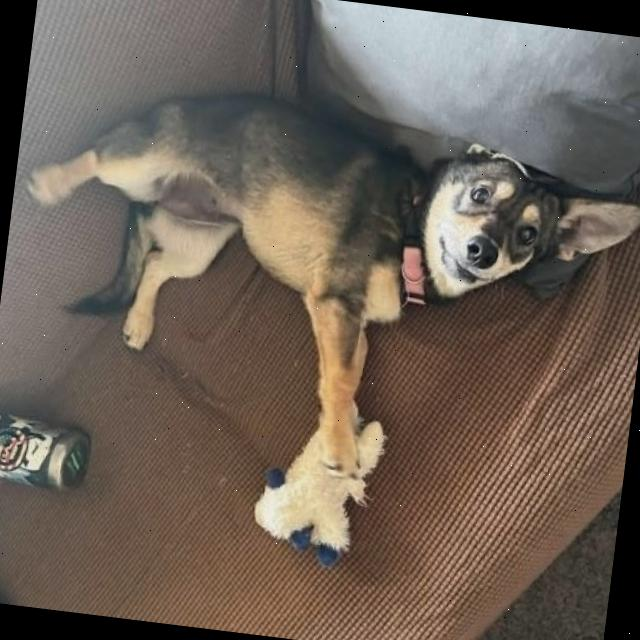corgi_dog: (367, 136, 640, 358)
